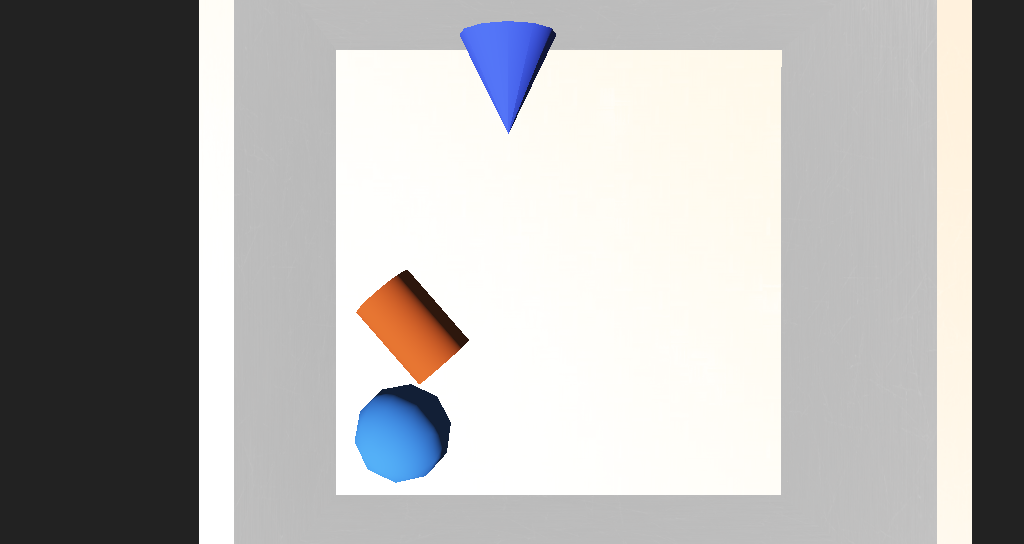cone: (364, 270, 445, 322)
cylinder: (441, 150, 502, 212)
sphere: (374, 322, 435, 365)
